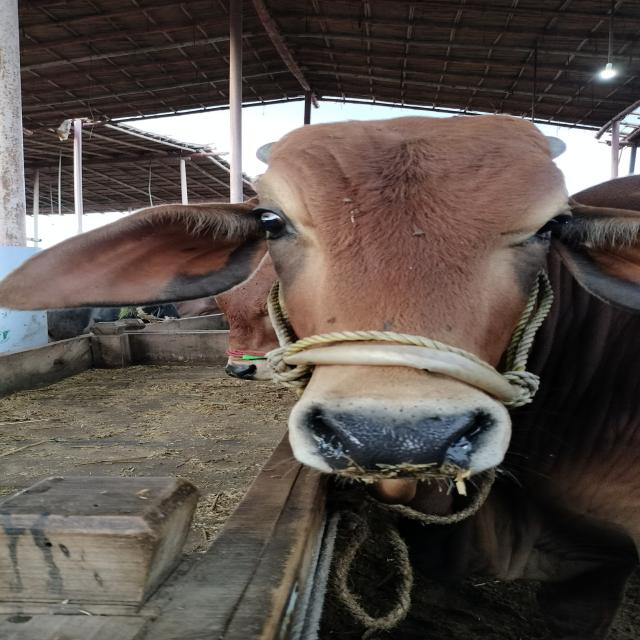muzzles: (298, 399, 508, 483)
